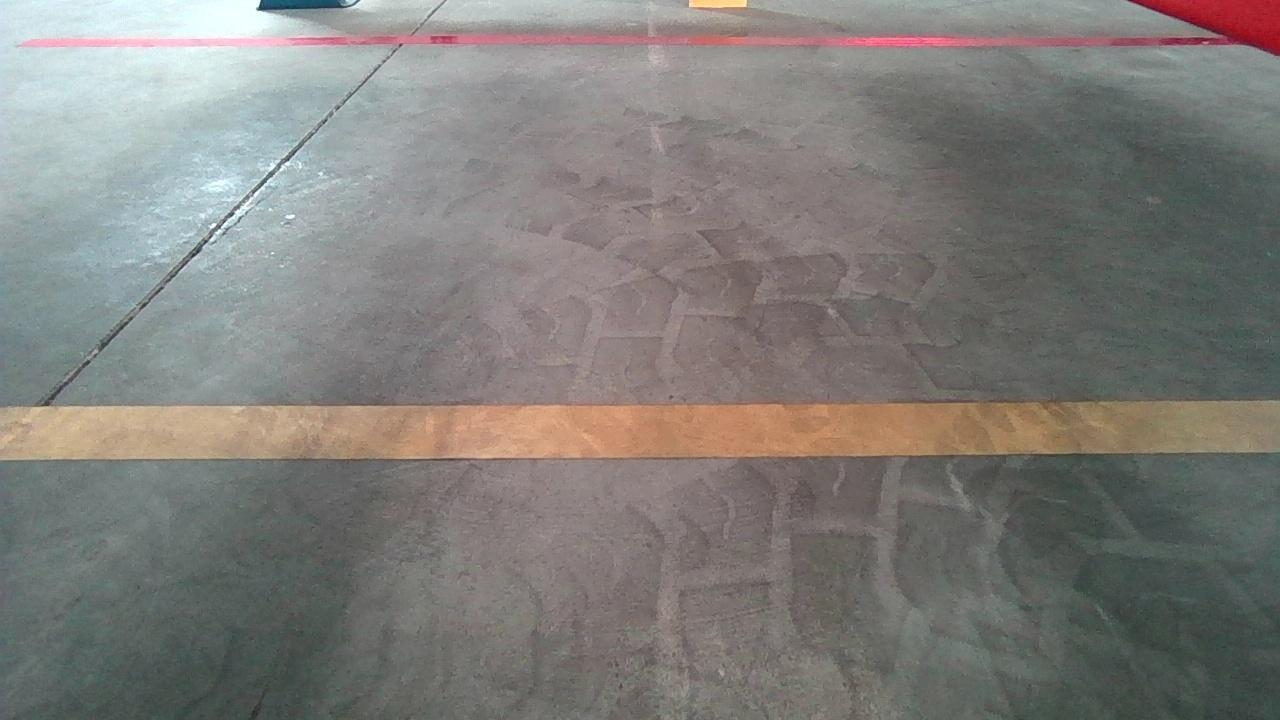red_line: (8, 37, 1236, 48)
yellow_line: (5, 393, 1280, 464)
